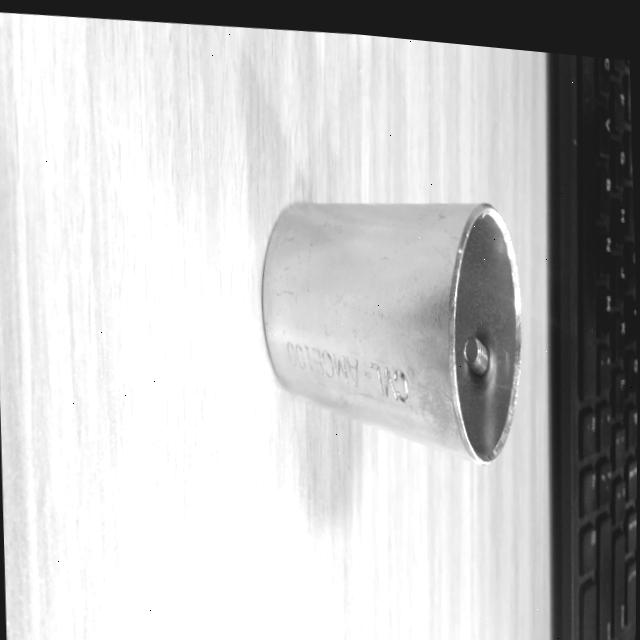Co_Nho: (262, 201, 521, 462)
